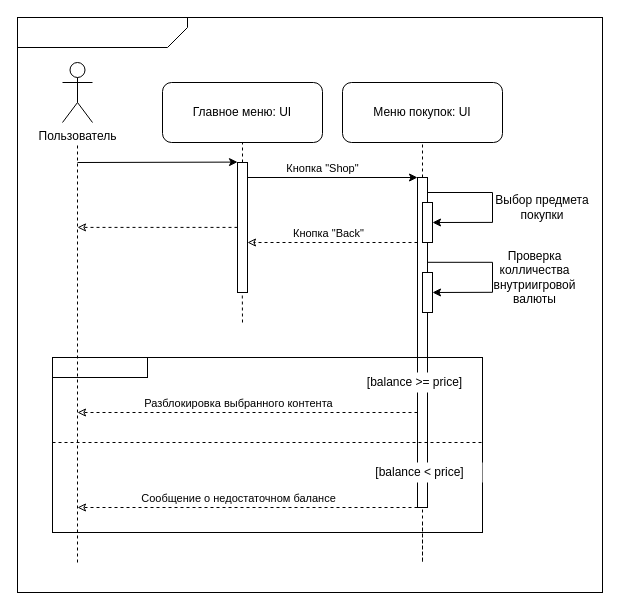
Some shapes in this 620 by 610 pixel diagram are drawn without their labels. The shapes that lost their labels are listed below. From the top down, each one's centre as x and y in pixels, then its label:
the point at 102,32: Покупка внутриигрового контента
the point at 100,367: Alternative
